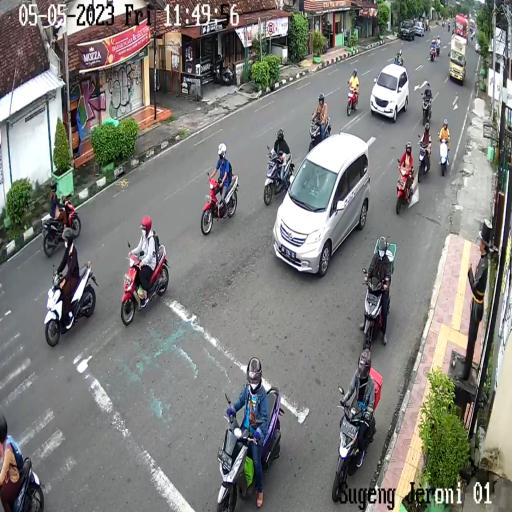mobil: (273, 130, 372, 278), (369, 63, 411, 122), (447, 34, 469, 86)
motor: (218, 382, 286, 512), (332, 389, 378, 502), (43, 261, 99, 349), (121, 241, 170, 327), (360, 267, 394, 353), (200, 171, 239, 238), (42, 193, 81, 256), (264, 144, 296, 207), (395, 159, 415, 218), (307, 110, 333, 152), (417, 134, 433, 185), (437, 132, 453, 179), (344, 80, 363, 118), (420, 90, 436, 128)
